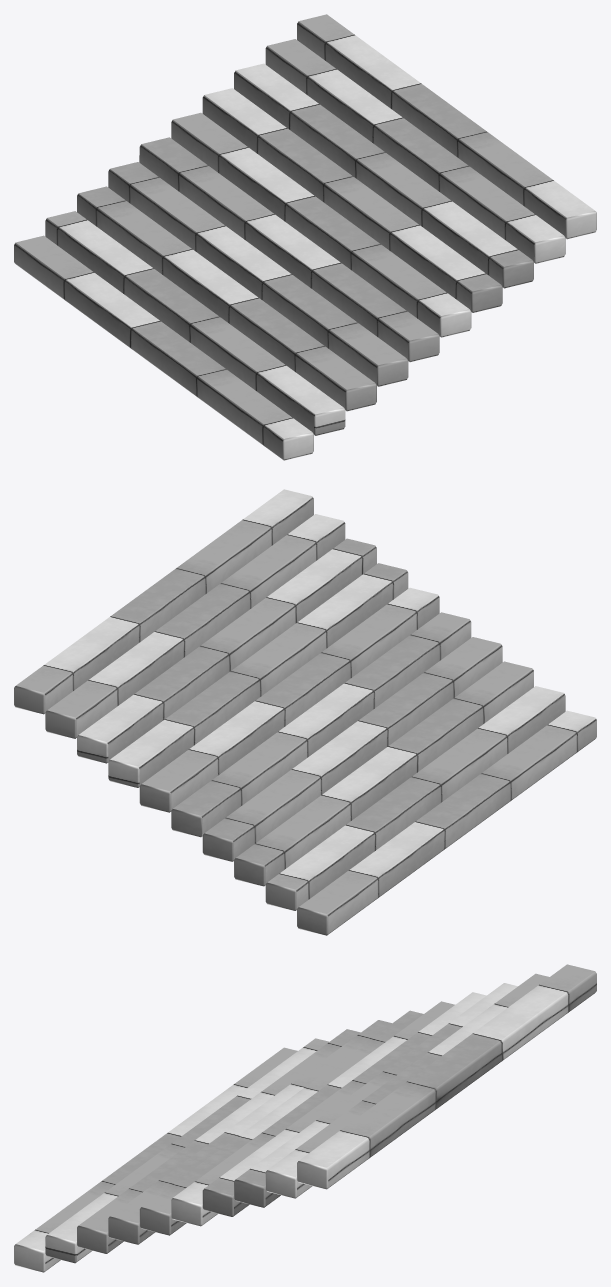
Rendered from SM_ladder_01.fbx.
3 renders of one model, top to bottom at view 1: azimuth 30°, elevation 25°; view 2: azimuth 150°, elevation 25°; view 3: azimuth 330°, elevation 25°, orthographic.
Parts seen in each view (by area): view 1: SM_ladder_01_LOD0; view 2: SM_ladder_01_LOD0; view 3: SM_ladder_01_LOD0.
Boxes of the visible parts, x1,y1,x2,y2 form: SM_ladder_01_LOD0: (14, 14, 596, 460); SM_ladder_01_LOD0: (14, 489, 596, 935); SM_ladder_01_LOD0: (14, 964, 596, 1272).
Bounding box in the file's own units: 403 × 600 × 213.
